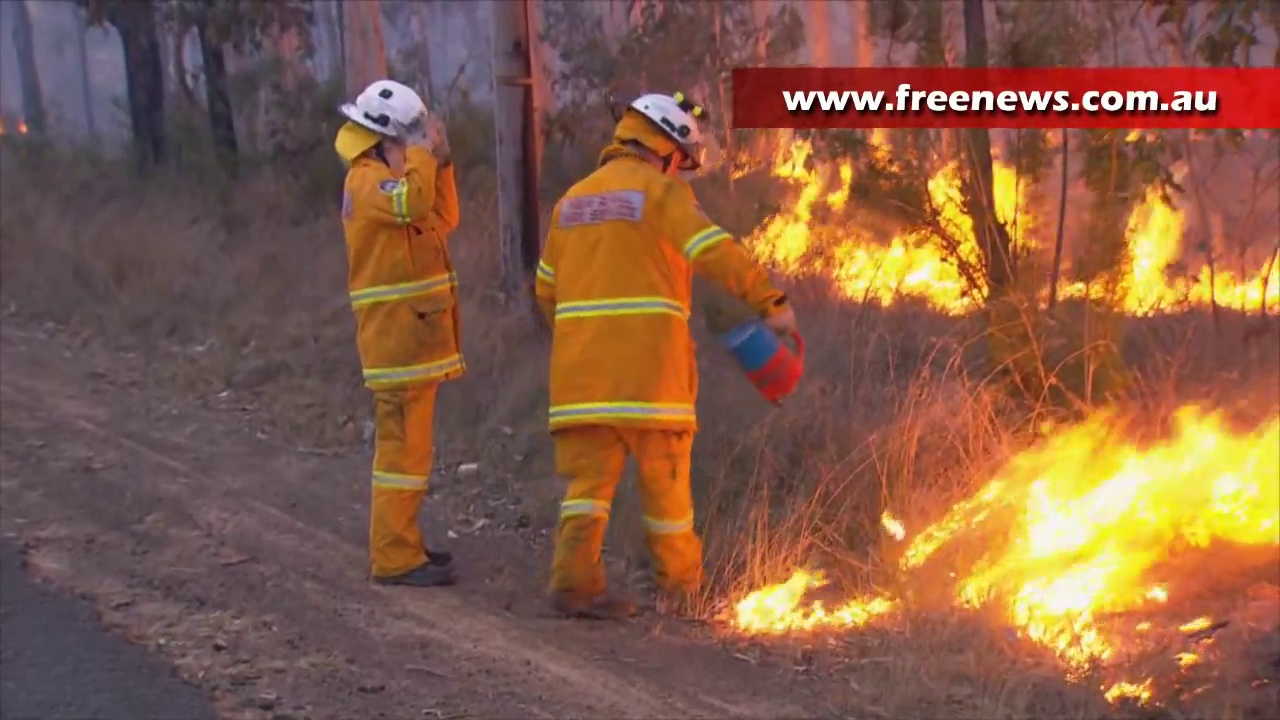fire: (903, 407, 1280, 664), (749, 133, 972, 285), (739, 575, 874, 627), (1122, 196, 1181, 312), (1205, 264, 1280, 312), (994, 163, 1022, 232)
